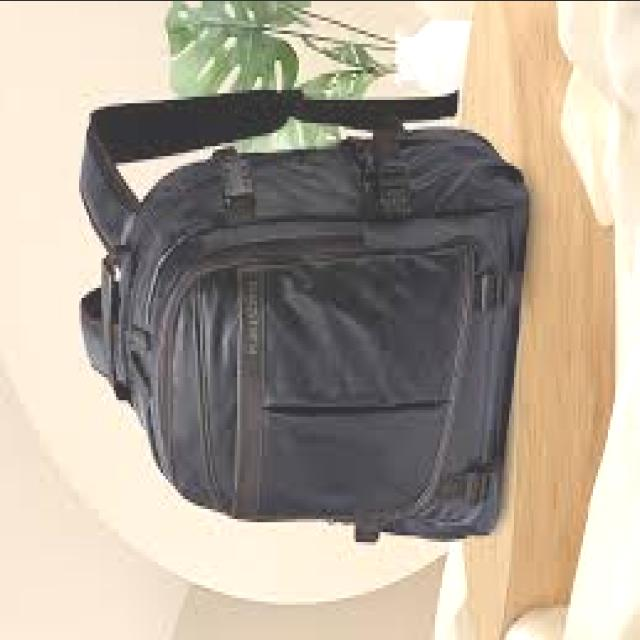backpack: (78, 90, 530, 546)
